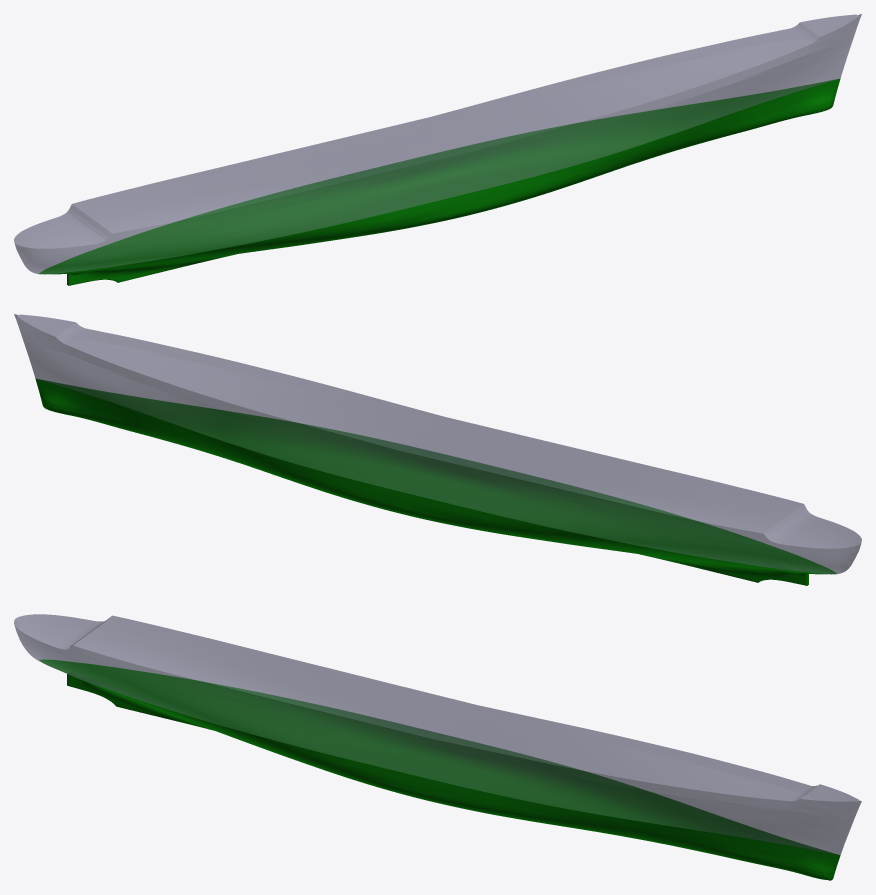
File: Steamship «United States».obj
The picture shows the model from 3 angles, top to bottom: view 1: azimuth 30°, elevation 25°; view 2: azimuth 150°, elevation 25°; view 3: azimuth 330°, elevation 25°; orthographic projection.
Size of the model in its own units: 302 by 29.71 by 30.95.
